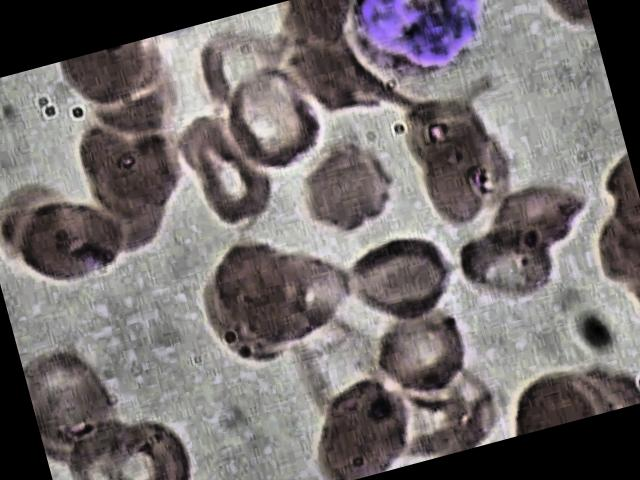RBC: (191, 225, 326, 360), (165, 101, 287, 246), (208, 58, 338, 183), (333, 221, 466, 341), (10, 187, 139, 303), (357, 296, 486, 412), (294, 370, 426, 480), (284, 132, 408, 248), (472, 172, 600, 272), (449, 215, 571, 315), (94, 410, 204, 480)
WBC: (335, 0, 505, 93)
